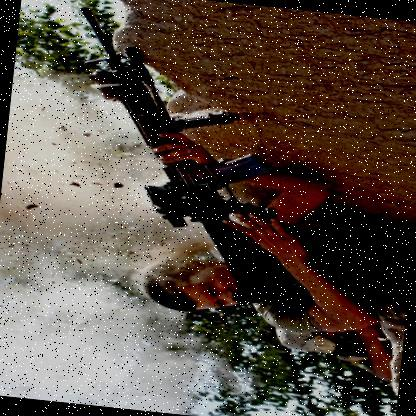rifle: (47, 4, 333, 296)
